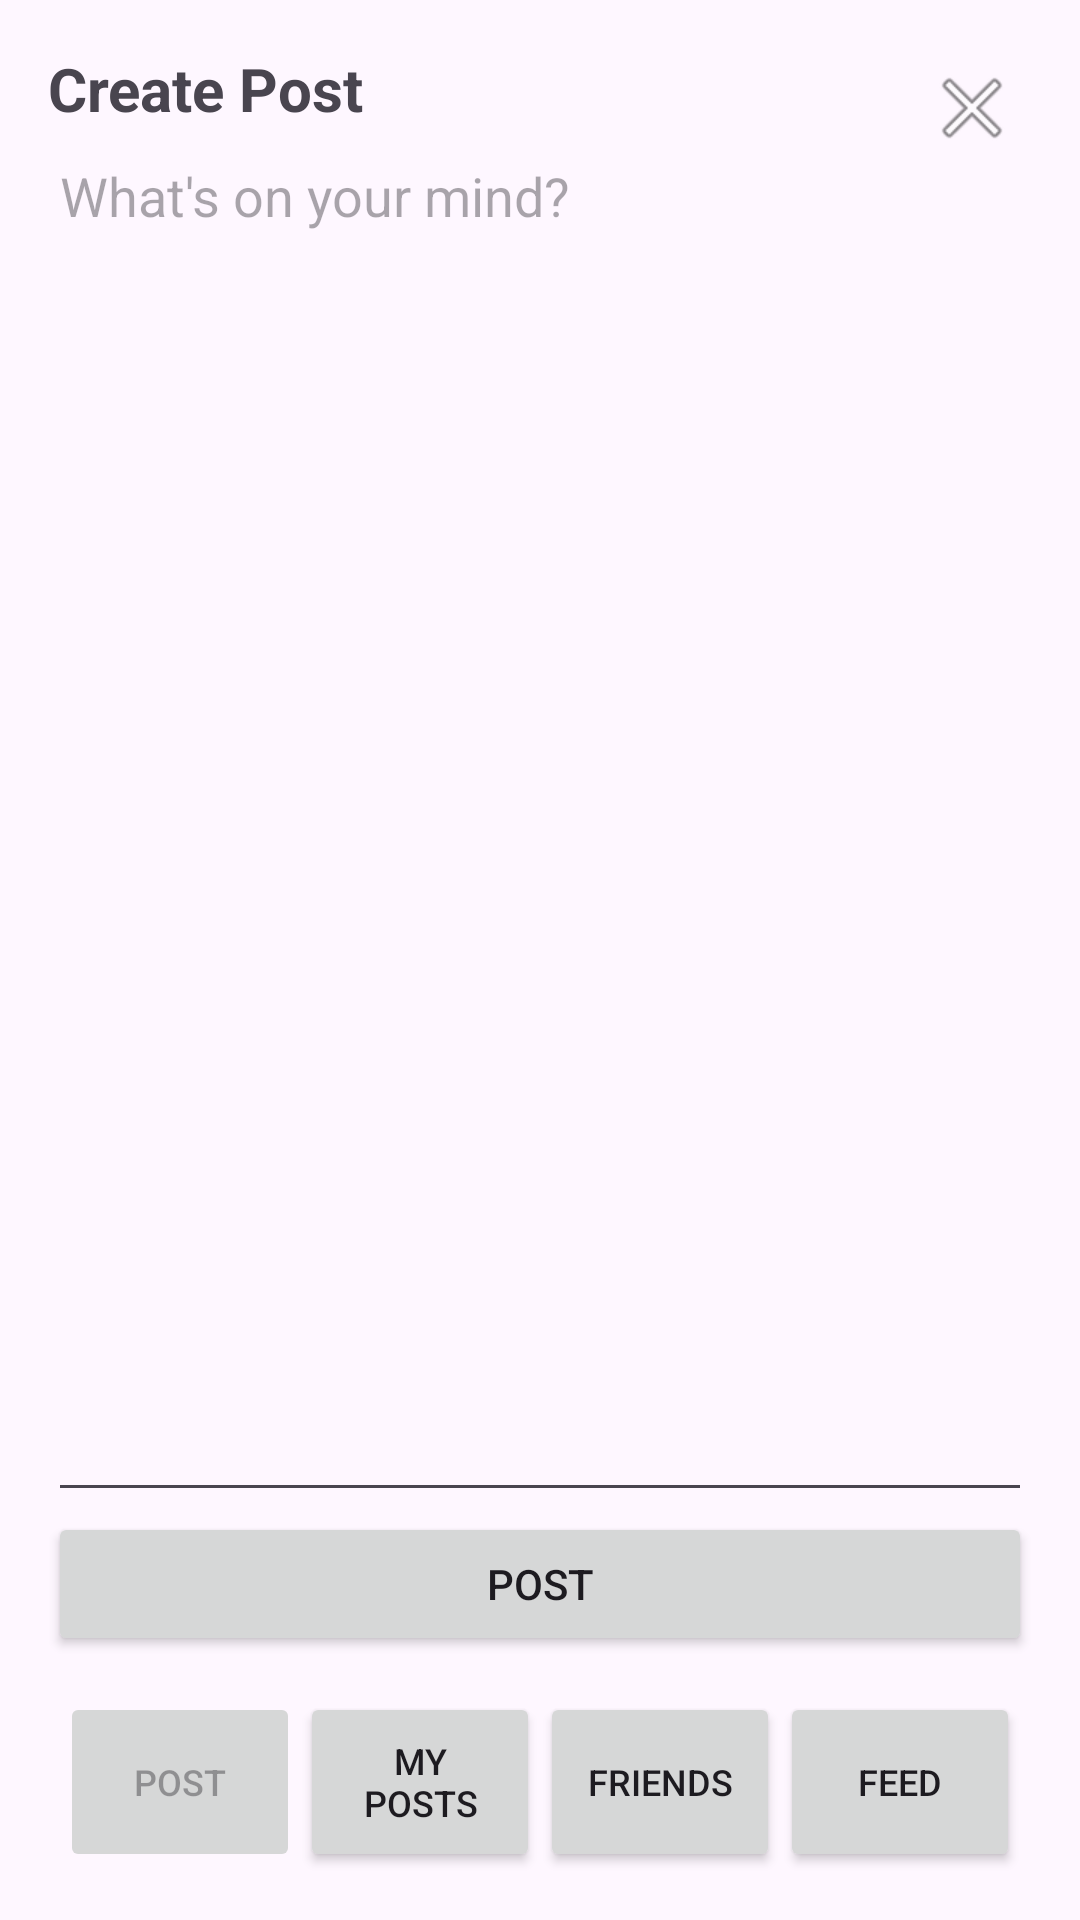

Icon bounding boxes for this 1080*1920 phone screenshot, format (x1, y1, x2, y2):
Close: (942, 78, 1002, 138)
